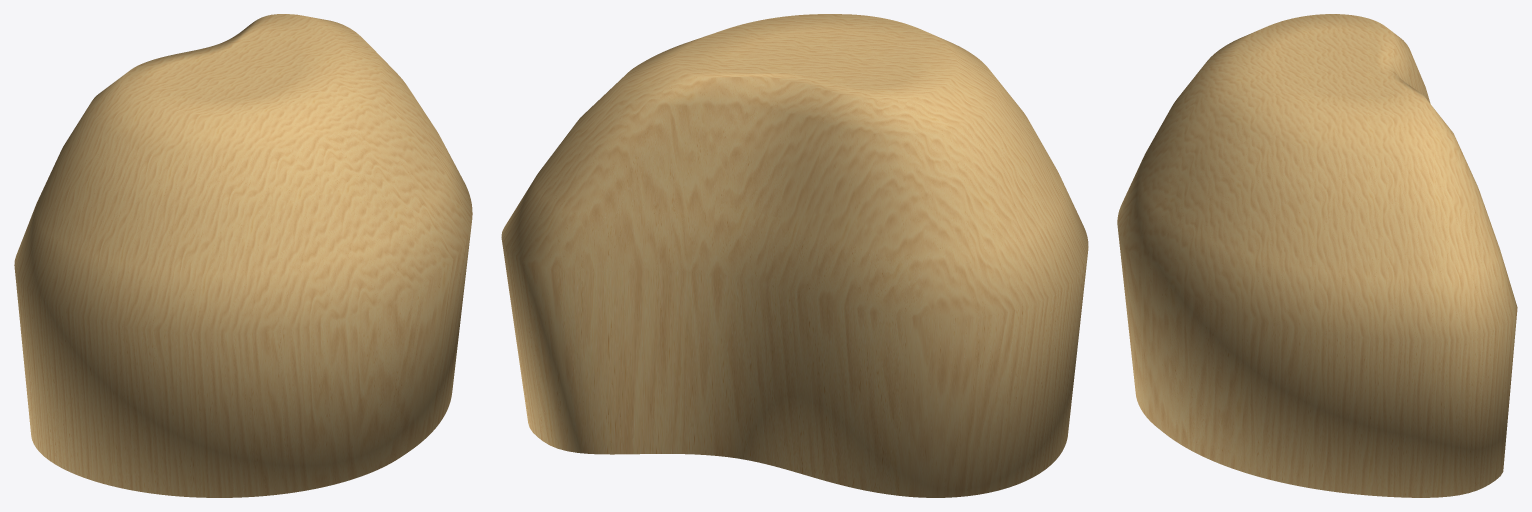
File: central-bay-island-seed-warm-v1.glb
3 views of the same model, side by side, from view 1: azimuth 30°, elevation 25°; view 2: azimuth 150°, elevation 25°; view 3: azimuth 270°, elevation 25° (orthographic). The views are drawn at different scales.
Visible parts, largest first — view 1: BeachIsland; view 2: BeachIsland; view 3: BeachIsland.
Boxes of the visible parts, bbox=[...] form: BeachIsland: bbox=[14, 14, 472, 497]; BeachIsland: bbox=[501, 14, 1088, 497]; BeachIsland: bbox=[1117, 14, 1517, 497].
Size of what is drawn, in the model's own units: 1.04 by 0.75 by 0.8263.
1 material, 1 textured.
